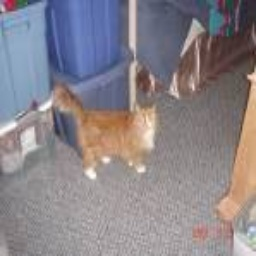cat: (58, 83, 162, 178)
